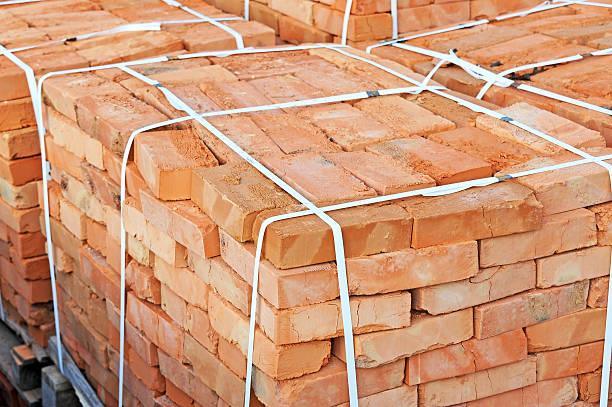Bricks: (203, 290, 329, 379), (389, 180, 545, 251), (253, 204, 410, 271), (160, 280, 251, 385), (401, 329, 528, 396), (220, 239, 335, 307), (484, 99, 606, 161), (191, 164, 291, 239), (257, 294, 416, 341), (509, 144, 611, 215), (418, 259, 540, 317), (350, 314, 474, 370), (131, 121, 219, 197), (485, 215, 598, 270), (342, 246, 483, 290), (253, 364, 400, 406), (416, 356, 534, 406), (70, 88, 162, 152), (265, 152, 373, 206), (380, 133, 494, 184), (481, 283, 589, 336), (293, 101, 398, 151), (184, 245, 257, 314), (40, 147, 121, 208), (120, 288, 183, 366), (507, 84, 611, 129), (192, 113, 280, 166), (180, 335, 244, 406), (139, 191, 211, 254), (435, 126, 540, 169), (112, 204, 191, 261), (356, 91, 454, 134), (327, 149, 418, 195), (445, 375, 576, 406), (143, 78, 234, 122), (421, 55, 528, 90), (118, 63, 242, 93), (44, 111, 107, 170), (155, 345, 215, 406), (528, 308, 611, 352), (246, 71, 344, 108), (524, 248, 611, 289), (169, 16, 267, 52), (416, 85, 500, 126), (461, 24, 548, 63), (153, 254, 211, 312), (50, 173, 118, 222), (84, 29, 180, 63), (0, 49, 92, 84), (77, 249, 127, 311), (256, 115, 342, 151), (532, 338, 604, 381), (528, 48, 611, 85), (428, 19, 526, 50), (110, 337, 159, 397), (232, 57, 351, 81), (47, 67, 124, 103), (68, 278, 110, 341), (107, 309, 151, 366), (315, 63, 385, 98), (357, 56, 429, 90), (39, 212, 85, 263), (371, 34, 438, 68), (208, 81, 275, 113), (302, 39, 380, 63), (66, 314, 102, 365), (120, 262, 162, 304), (1, 227, 48, 259), (44, 83, 78, 123), (109, 159, 143, 199), (0, 180, 40, 206), (9, 275, 49, 301), (1, 202, 41, 227), (0, 135, 42, 158), (3, 257, 51, 276), (63, 202, 86, 239), (37, 187, 61, 221), (158, 381, 190, 406), (102, 240, 124, 275), (88, 218, 109, 253), (0, 73, 27, 97), (0, 107, 32, 127), (1, 165, 38, 181)
